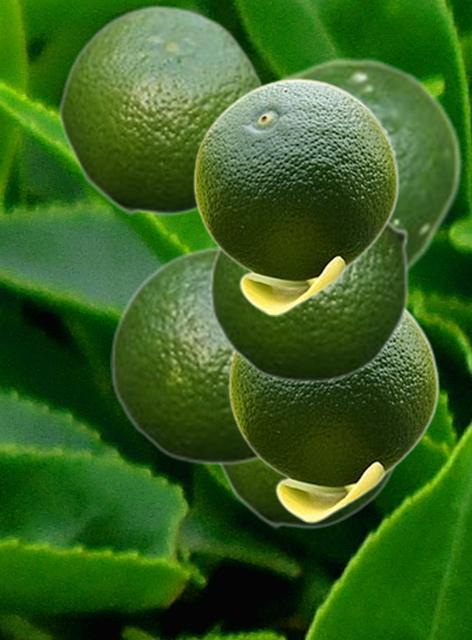calamansi: (193, 78, 398, 315), (228, 310, 438, 522), (57, 3, 266, 215), (272, 57, 462, 273), (110, 246, 261, 465), (209, 219, 409, 383), (216, 460, 399, 528)
